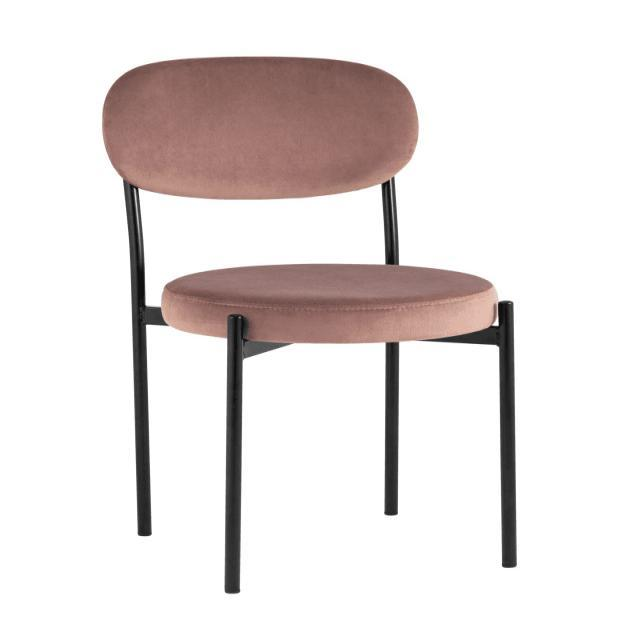chair: (91, 53, 537, 599), (108, 55, 535, 340)
